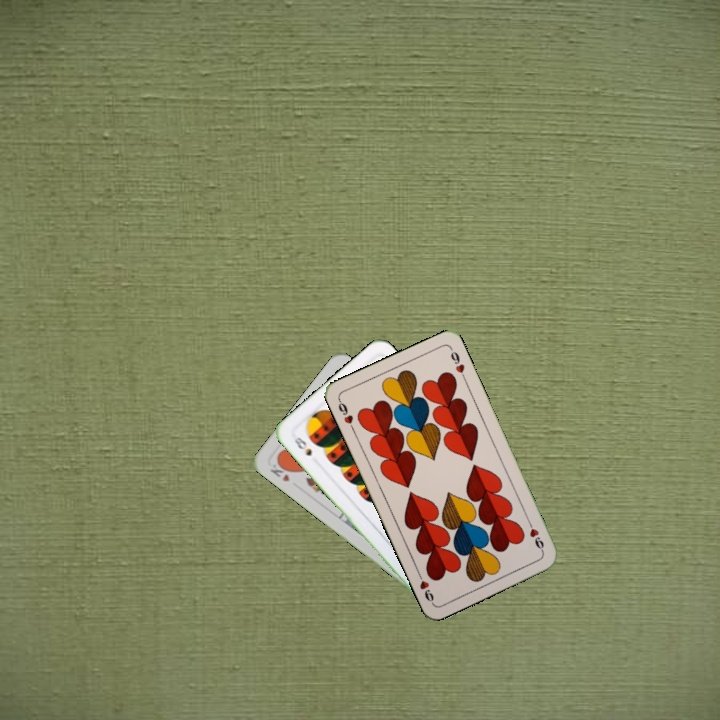H9: (523, 516, 547, 555), (334, 395, 357, 434)
HK: (266, 457, 294, 484)
S8: (290, 431, 314, 458)
